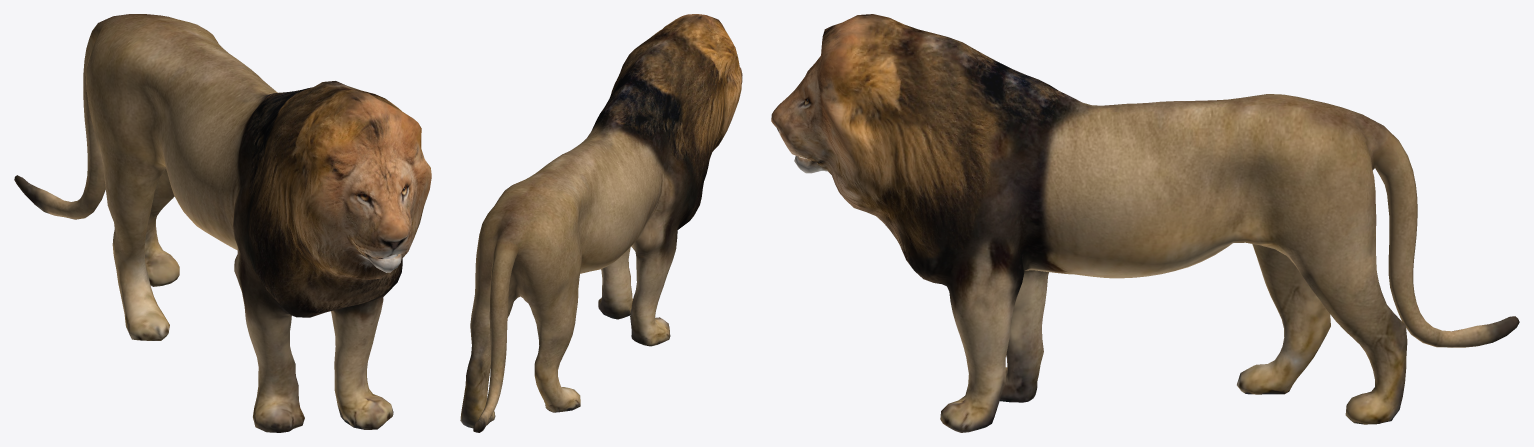
Rendered from Lion.fbx.
3 views of the same model, side by side, from view 1: azimuth 30°, elevation 25°; view 2: azimuth 150°, elevation 25°; view 3: azimuth 270°, elevation 25° (orthographic). The views are drawn at different scales.
Parts seen in each view (by area): view 1: Lion; view 2: Lion; view 3: Lion.
Boxes of the visible parts, x1,y1,x2,y2 form: Lion: (14,14,431,432); Lion: (460,14,742,432); Lion: (771,14,1519,432).
Bounding box in the file's own units: 1.45 × 3.77 × 6.68.
1 material, 1 textured.
